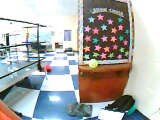Ball: (89, 59, 97, 68)
